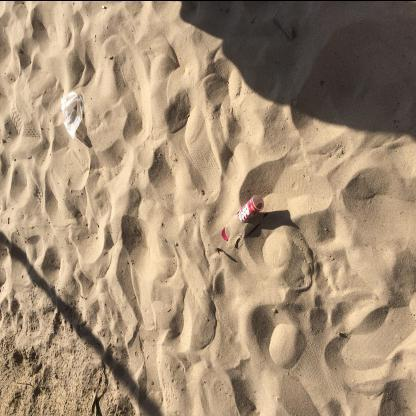karton: (222, 195, 265, 241)
plastik: (62, 92, 85, 140)
